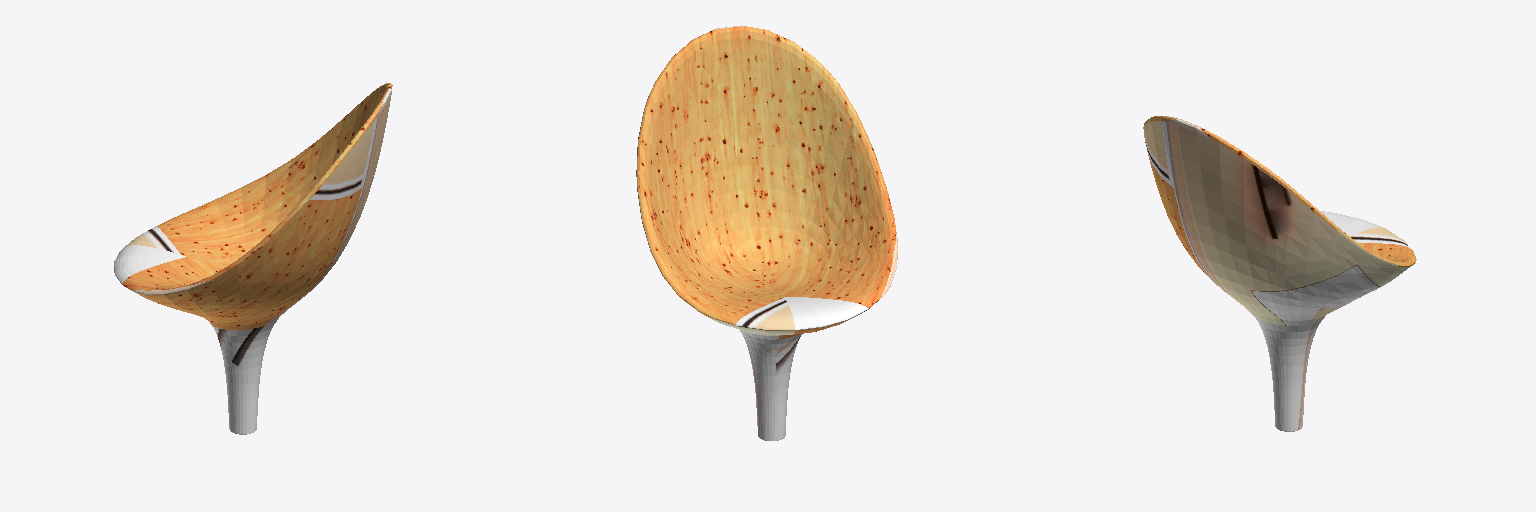
The picture shows the model from 3 angles: view 1: azimuth 30°, elevation 25°; view 2: azimuth 150°, elevation 25°; view 3: azimuth 270°, elevation 25°; orthographic projection.
Parts seen in each view (by area): view 1: Chair001; view 2: Chair001; view 3: Chair001.
Part boxes in pixels (left/top/right/bottom): Chair001: left=114, top=83, right=392, bottom=434; Chair001: left=636, top=25, right=897, bottom=440; Chair001: left=1143, top=116, right=1416, bottom=431.
Size of the model in its own units: 0.4932 by 0.6931 by 0.4918.
Materials: 1 (1 with a texture image).